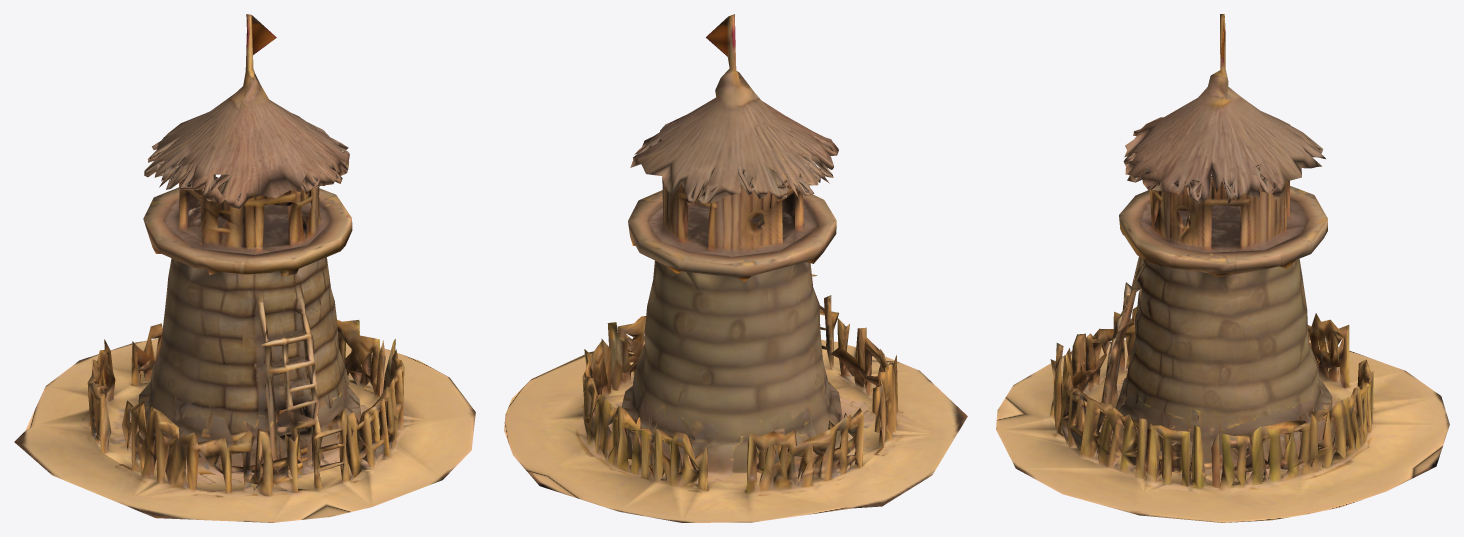
File: Tower.Slinger.glb
3 views of the same model, side by side, from view 1: azimuth 30°, elevation 25°; view 2: azimuth 150°, elevation 25°; view 3: azimuth 270°, elevation 25° (orthographic).
Parts seen in each view (by area): view 1: Mesh_0; view 2: Mesh_0; view 3: Mesh_0.
Part boxes in pixels (x1,y1,x2,y2): Mesh_0: [14, 14, 475, 522]; Mesh_0: [504, 14, 967, 522]; Mesh_0: [996, 14, 1449, 522].
Bounding box in the file's own units: 1.98 × 1.96 × 1.96.
Materials: 1 (1 with a texture image).
